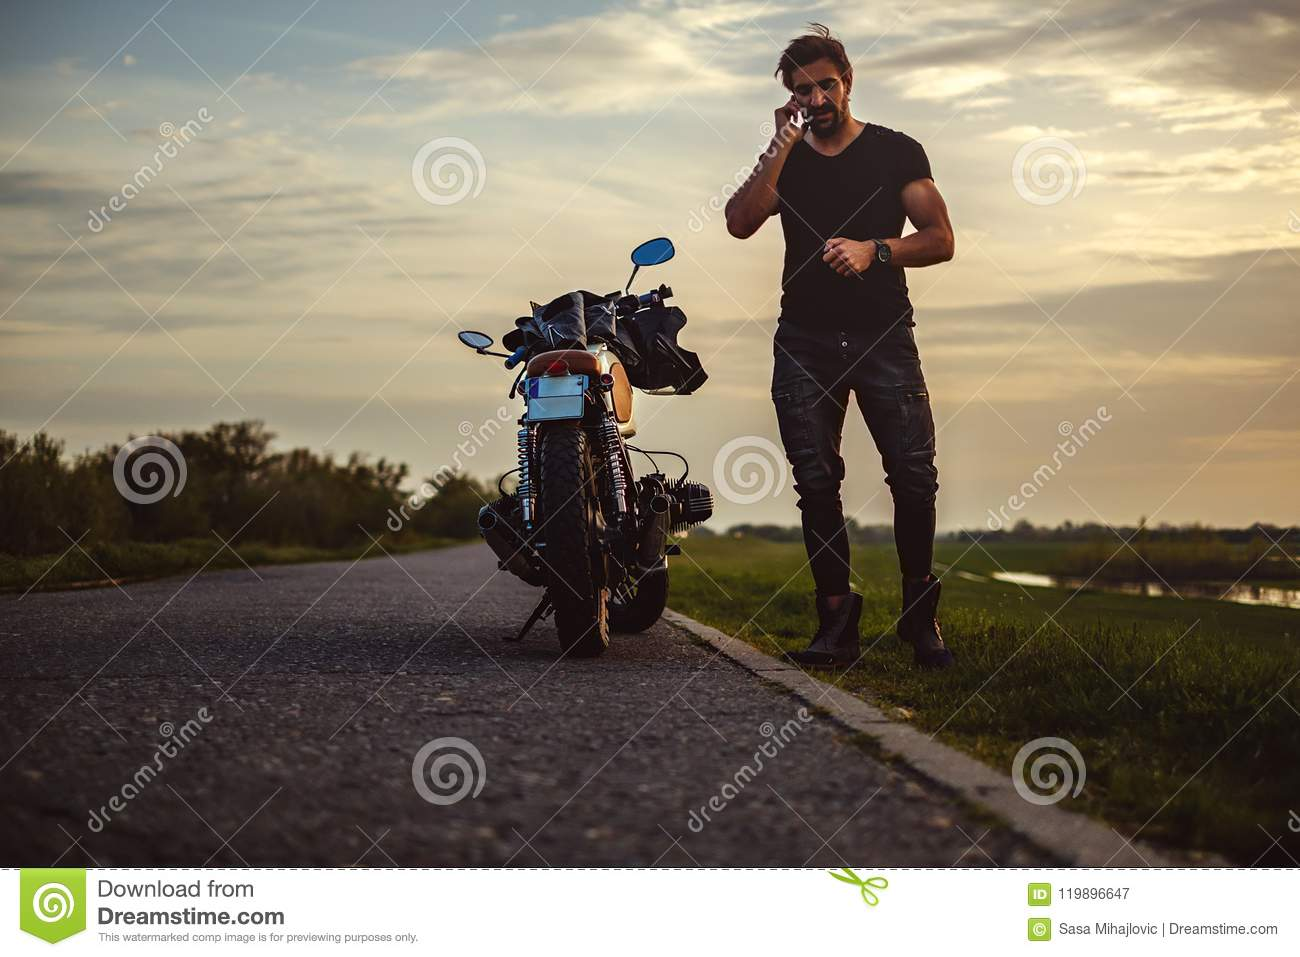phone: (789, 94, 811, 128)
talk: (773, 72, 842, 143)
